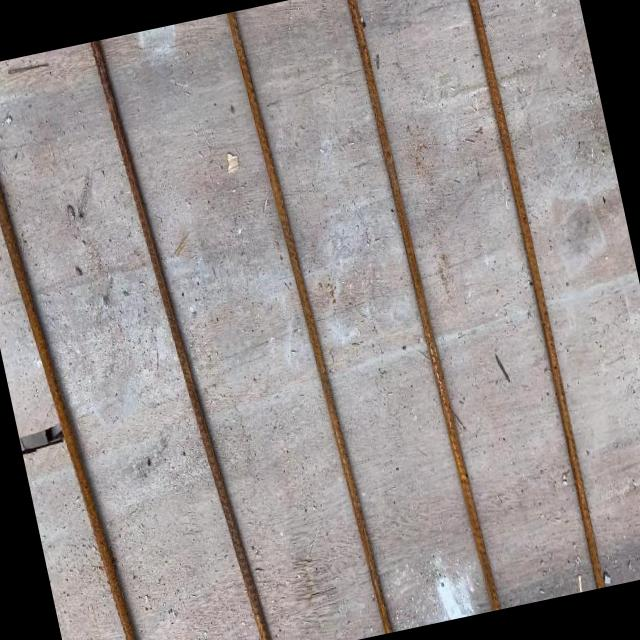ribbed bar: (86, 30, 278, 640), (224, 6, 394, 638), (338, 0, 500, 614), (457, 0, 606, 588), (0, 57, 150, 640)
